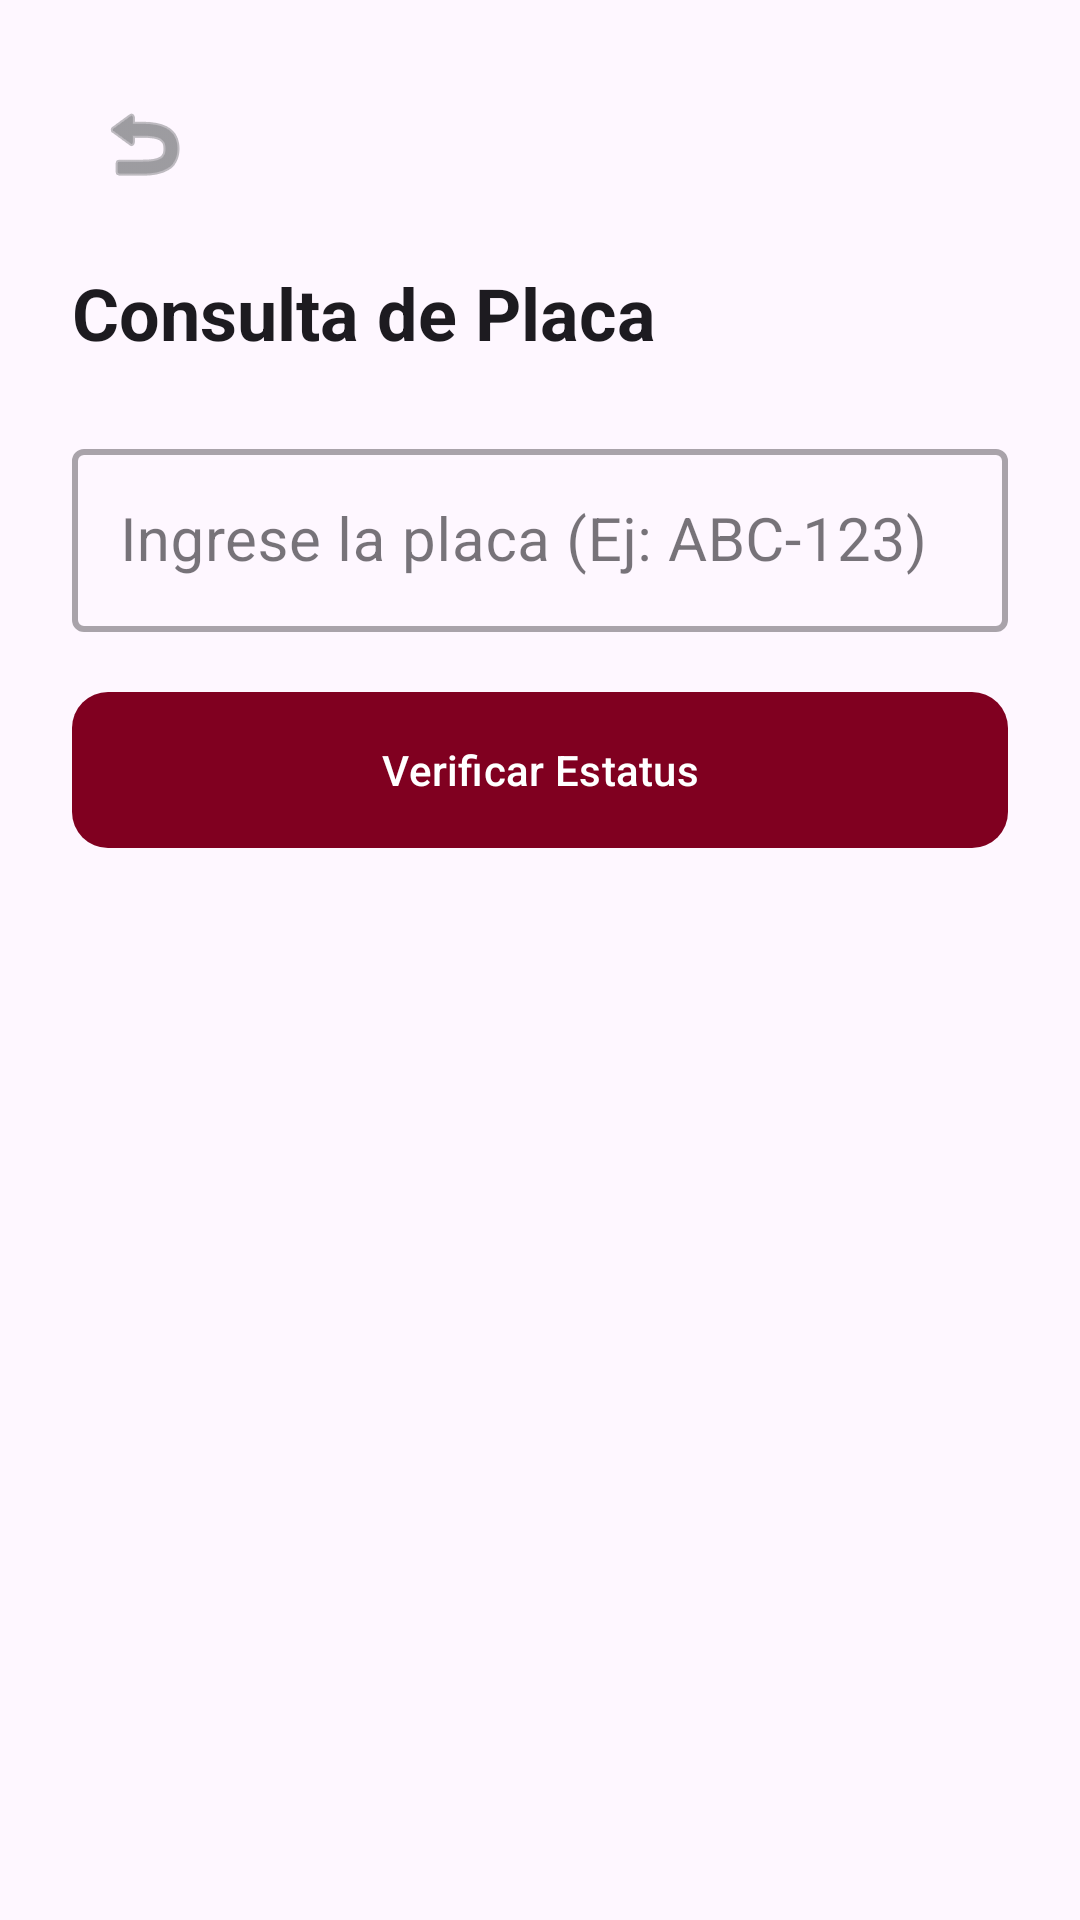

Point at icon controls on the screen. Image size 1080x1920, points as (x,y).
revert: (145,145)
